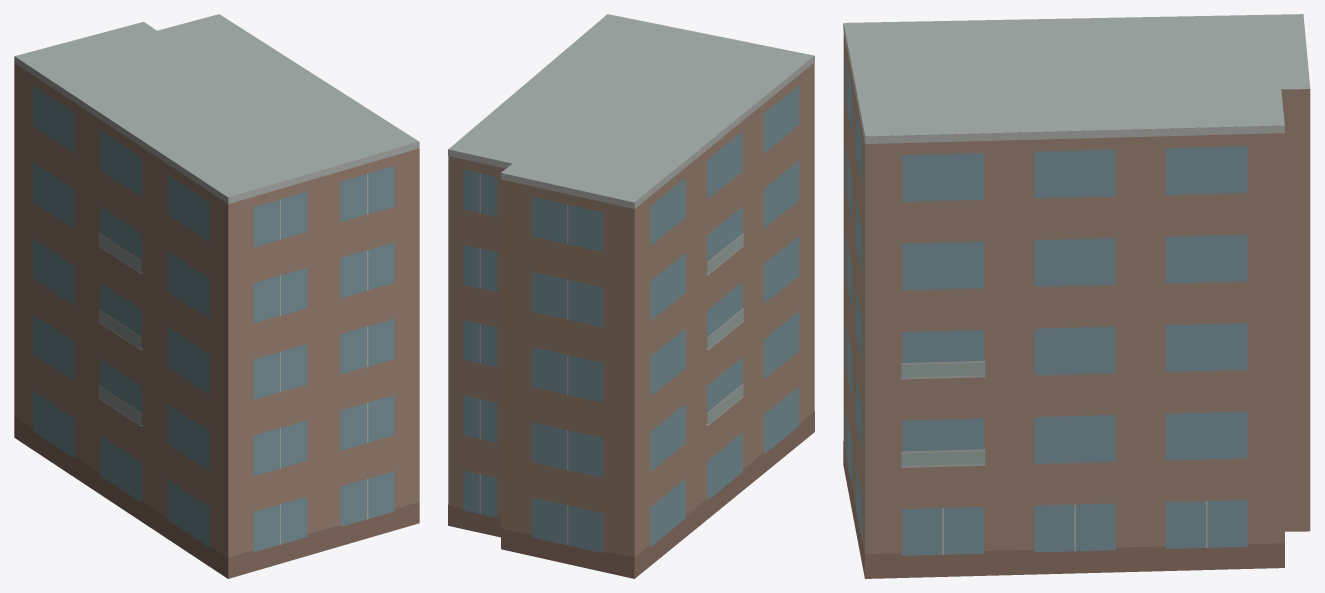
The model's file is survey-upis-32737444.glb.
3 renders of one model, left to right at view 1: azimuth 30°, elevation 25°; view 2: azimuth 150°, elevation 25°; view 3: azimuth 270°, elevation 25°, orthographic. The views are drawn at different scales.
Parts seen in each view (by area): view 1: survey-upis-32737444.tmp; view 2: survey-upis-32737444.tmp; view 3: survey-upis-32737444.tmp.
Boxes of the visible parts, x1,y1,x2,y2 form: survey-upis-32737444.tmp: [14, 14, 419, 578]; survey-upis-32737444.tmp: [448, 14, 814, 578]; survey-upis-32737444.tmp: [843, 14, 1310, 578].
Size of the model in its own units: 8.35 by 14.05 by 13.45.
